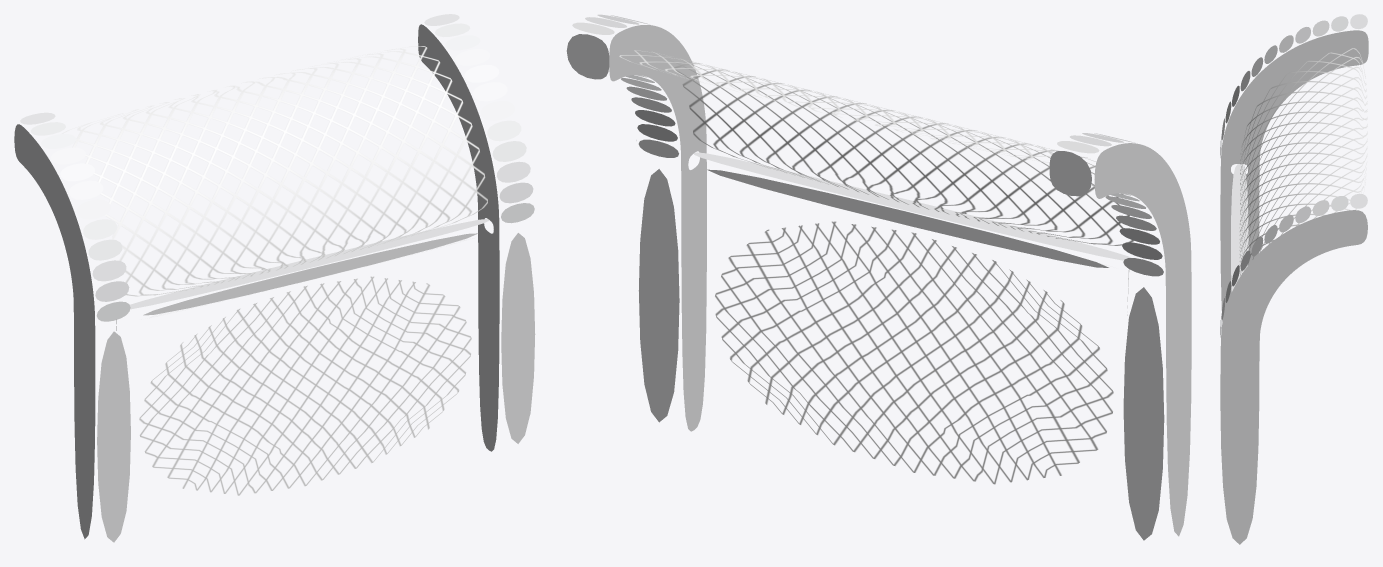
Rendered from fence_curved.glb.
3 renders of one model, left to right at view 1: azimuth 30°, elevation 25°; view 2: azimuth 150°, elevation 25°; view 3: azimuth 270°, elevation 25°, orthographic. The views are drawn at different scales.
Parts seen in each view (by area): view 1: fence_curved; view 2: fence_curved; view 3: fence_curved.
Part boxes in pixels (bbox=[...]): fence_curved: bbox=[14, 14, 535, 542]; fence_curved: bbox=[566, 14, 1191, 540]; fence_curved: bbox=[1220, 14, 1368, 544].
Bounding box in the file's own units: 1 × 0.8199 × 0.32.
Materials: 2 (1 with a texture image).
